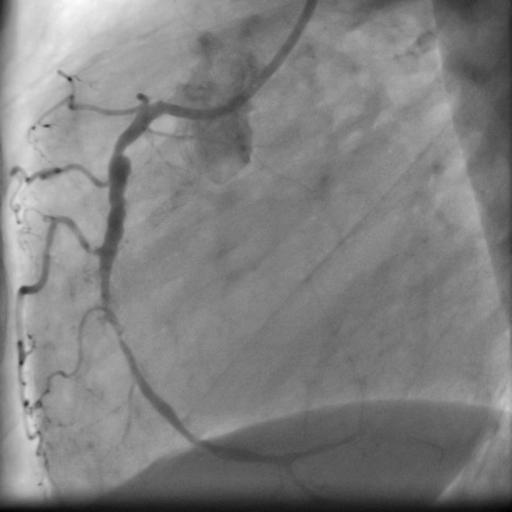Stenosis: (110, 133, 129, 161)
